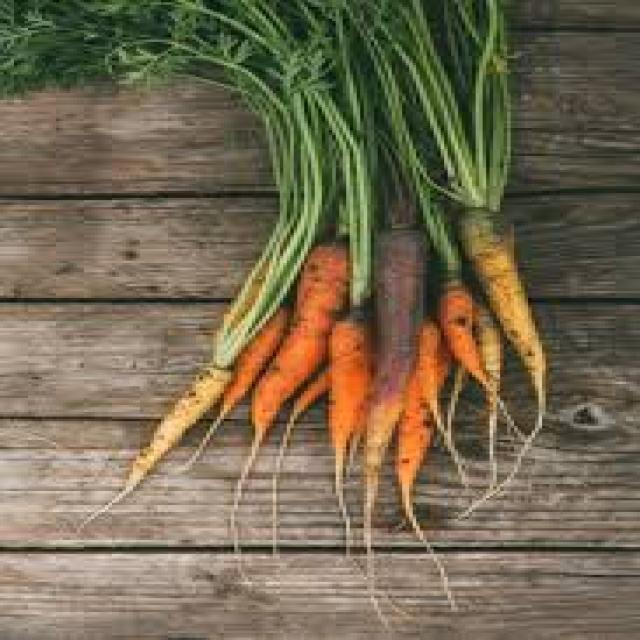Stale_Carrot: (458, 204, 558, 396), (371, 214, 435, 458), (286, 240, 347, 390), (178, 355, 225, 482)
